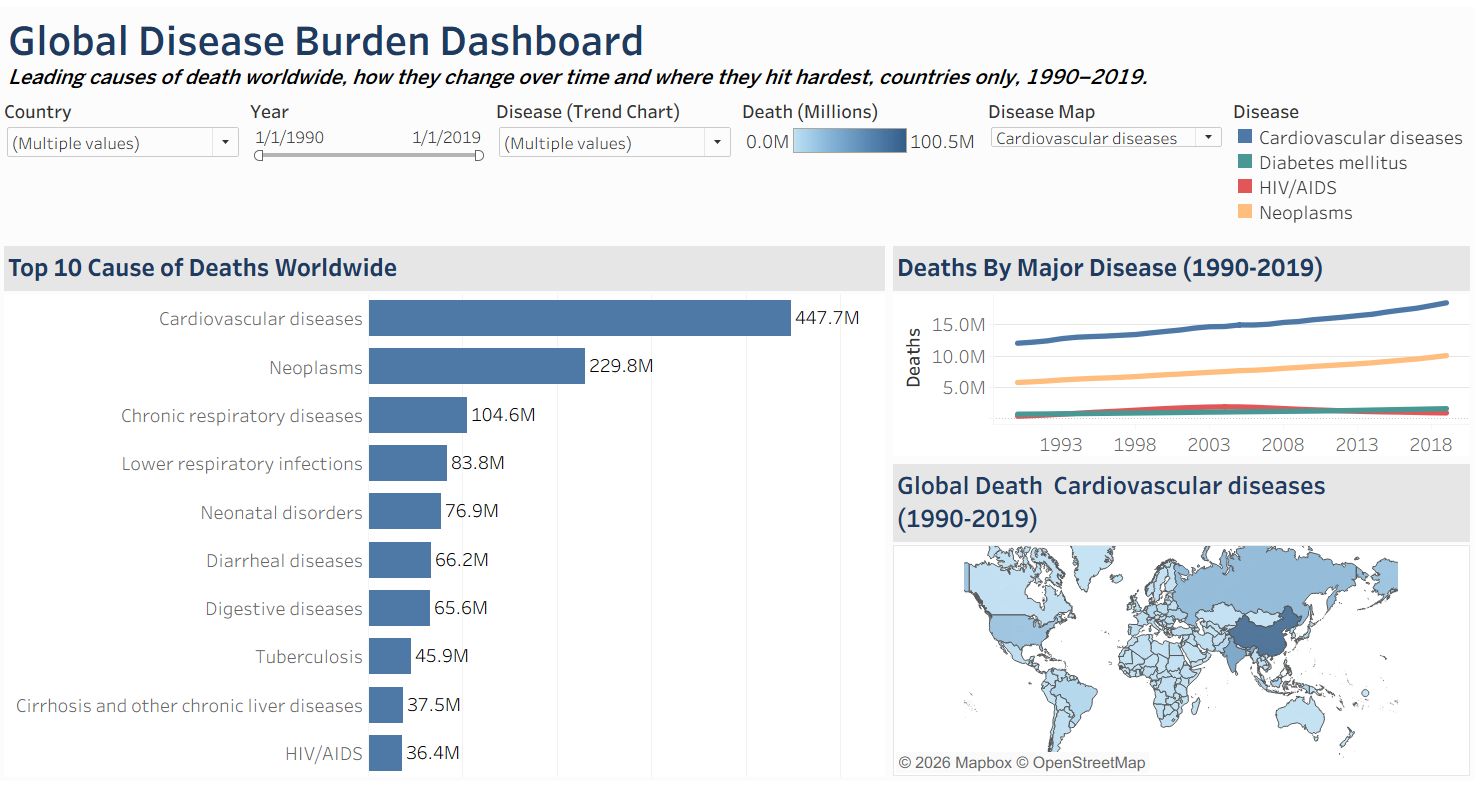

This screenshot's page, from the dashboard's own definition file:
{"tool":"tableau","page":{"name":"Global Disease Burden Dashboard","canvas":[1500,800],"ordinal":0},"visuals":[{"type":"title","box":[13,13,1474,87]},{"type":"filter","title":"Top Causes of Death","param":"[federated.11086hz0ax1jhq1e8ujbg08lxq0k].[none:Entity:nk]","box":[13,100,246,148]},{"type":"filter","title":"Top Causes of Death","param":"[federated.11086hz0ax1jhq1e8ujbg08lxq0k].[none:Calculation_0750476188205057:qk]","box":[259,100,246,148]},{"type":"filter","title":"Disease Trend","param":"[federated.11086hz0ax1jhq1e8ujbg08lxq0k].[none:Calculation_0750476186587136:nk]","box":[505,100,246,148]},{"type":"legend","title":"Disease Map","param":"[federated.11086hz0ax1jhq1e8ujbg08lxq0k].[sum:Calculation_0750476300501000:qk]","box":[751,100,246,148]},{"type":"parameter","param":"[Parameters].[Parameter 0750476299788295]","box":[997,100,245,148]},{"type":"legend","title":"Disease Trend","param":"[federated.11086hz0ax1jhq1e8ujbg08lxq0k].[none:Calculation_0750476186587136:nk]","box":[1242,100,245,148]},{"type":"worksheet","title":"Top Causes of Death","mark":"Automatic","rows":["Calculation_0750476186587136"],"cols":["Pivot Field Values"],"box":[13,248,889,539]},{"type":"worksheet","title":"Disease Trend","mark":"Line","rows":["Pivot Field Values"],"cols":["Calculation_0750476188205057"],"box":[902,248,585,218.5]},{"type":"worksheet","title":"Disease Map","mark":"Multipolygon","box":[902,466.5,585,320.5]}]}

Visuals, with their boxes in screenshot pixels (x1, y1, x2, y2), scaled from the page's 1500x800 canvas onto the 1480x790 screenshot:
title: (13, 13, 1467, 99)
"Top Causes of Death" filter: (13, 99, 256, 245)
"Top Causes of Death" filter: (256, 99, 498, 245)
"Disease Trend" filter: (498, 99, 741, 245)
"Disease Map" legend: (741, 99, 984, 245)
parameter: (984, 99, 1225, 245)
"Disease Trend" legend: (1225, 99, 1467, 245)
"Top Causes of Death" worksheet: (13, 245, 890, 777)
"Disease Trend" worksheet (Line marks): (890, 245, 1467, 461)
"Disease Map" worksheet (Multipolygon marks): (890, 461, 1467, 777)
